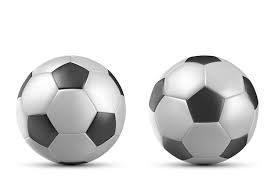football ball: (15, 55, 124, 167), (150, 57, 262, 166)
